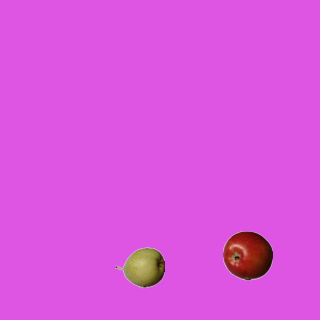Apple Braeburn: (222, 230, 272, 280)
Pear: (114, 242, 164, 292)
